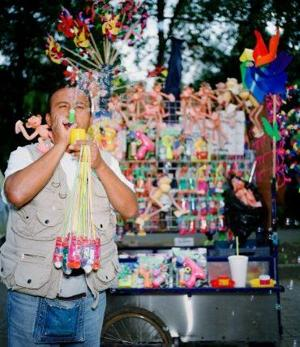person: (2, 81, 138, 347)
